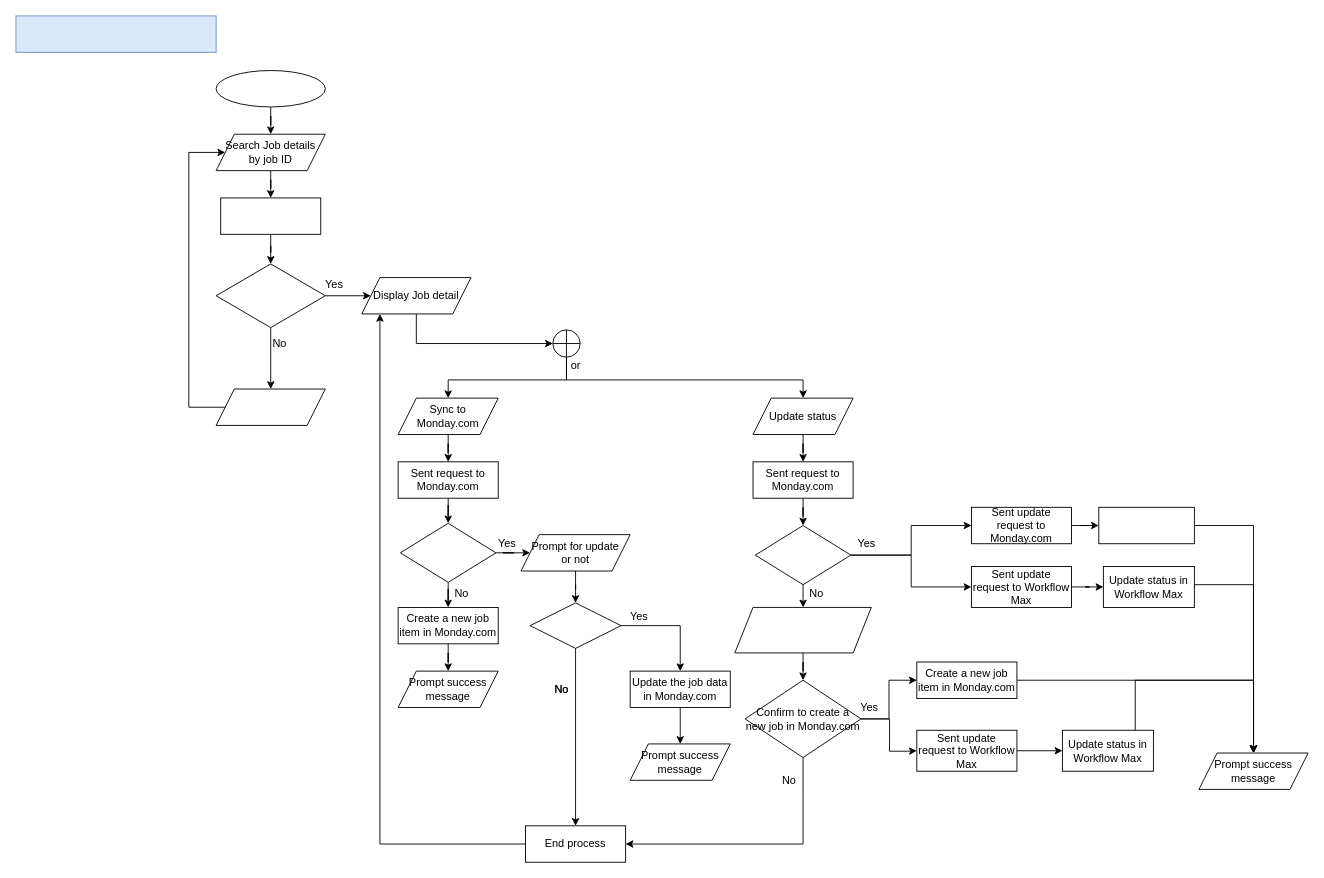
This 1324x878 diagram has some shape labels left out. The shapes that lost their labels are listed below. From the top down, each one's box as (x1, y1, x2, y2) in pixels, then its label:
(15, 15, 216, 52): Main page process:
(215, 70, 325, 107): Main page load
(220, 197, 321, 234): Sent request to Workflow Max
(215, 263, 325, 328): Check job id exist in Workflow Max
(215, 388, 325, 425): Throw error message
(1098, 506, 1194, 544): Update status in Monday.com
(399, 522, 496, 582): Check job id exist in Monday
(754, 525, 851, 585): Check job id exist in Monday or not
(529, 602, 621, 648): Confirm the update
(734, 607, 871, 653): Prompt for create a new job in Monday.com
